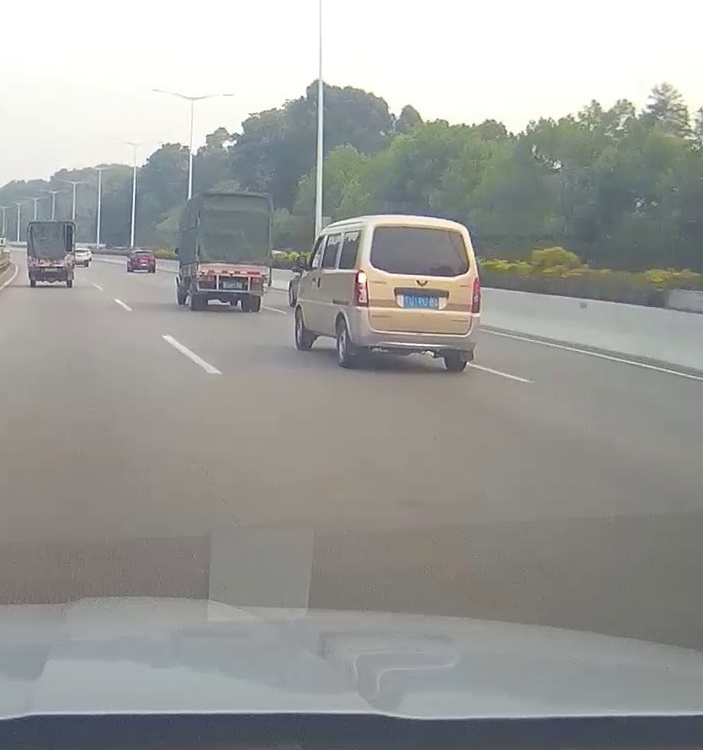L_light: (353, 269, 369, 308), (198, 276, 213, 281)
R_light: (471, 276, 481, 313), (252, 278, 264, 283)
T_light: (412, 226, 431, 233), (227, 270, 235, 273)
day-left: (350, 215, 482, 372)
day-no: (193, 190, 273, 312)
